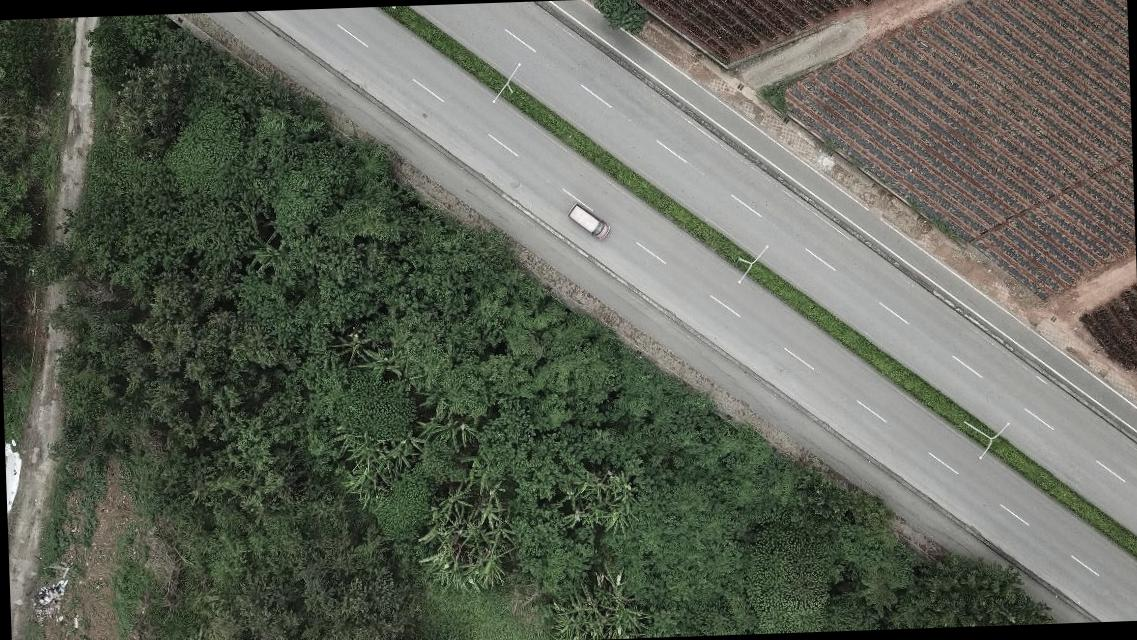vehicle: (567, 204, 611, 238)
